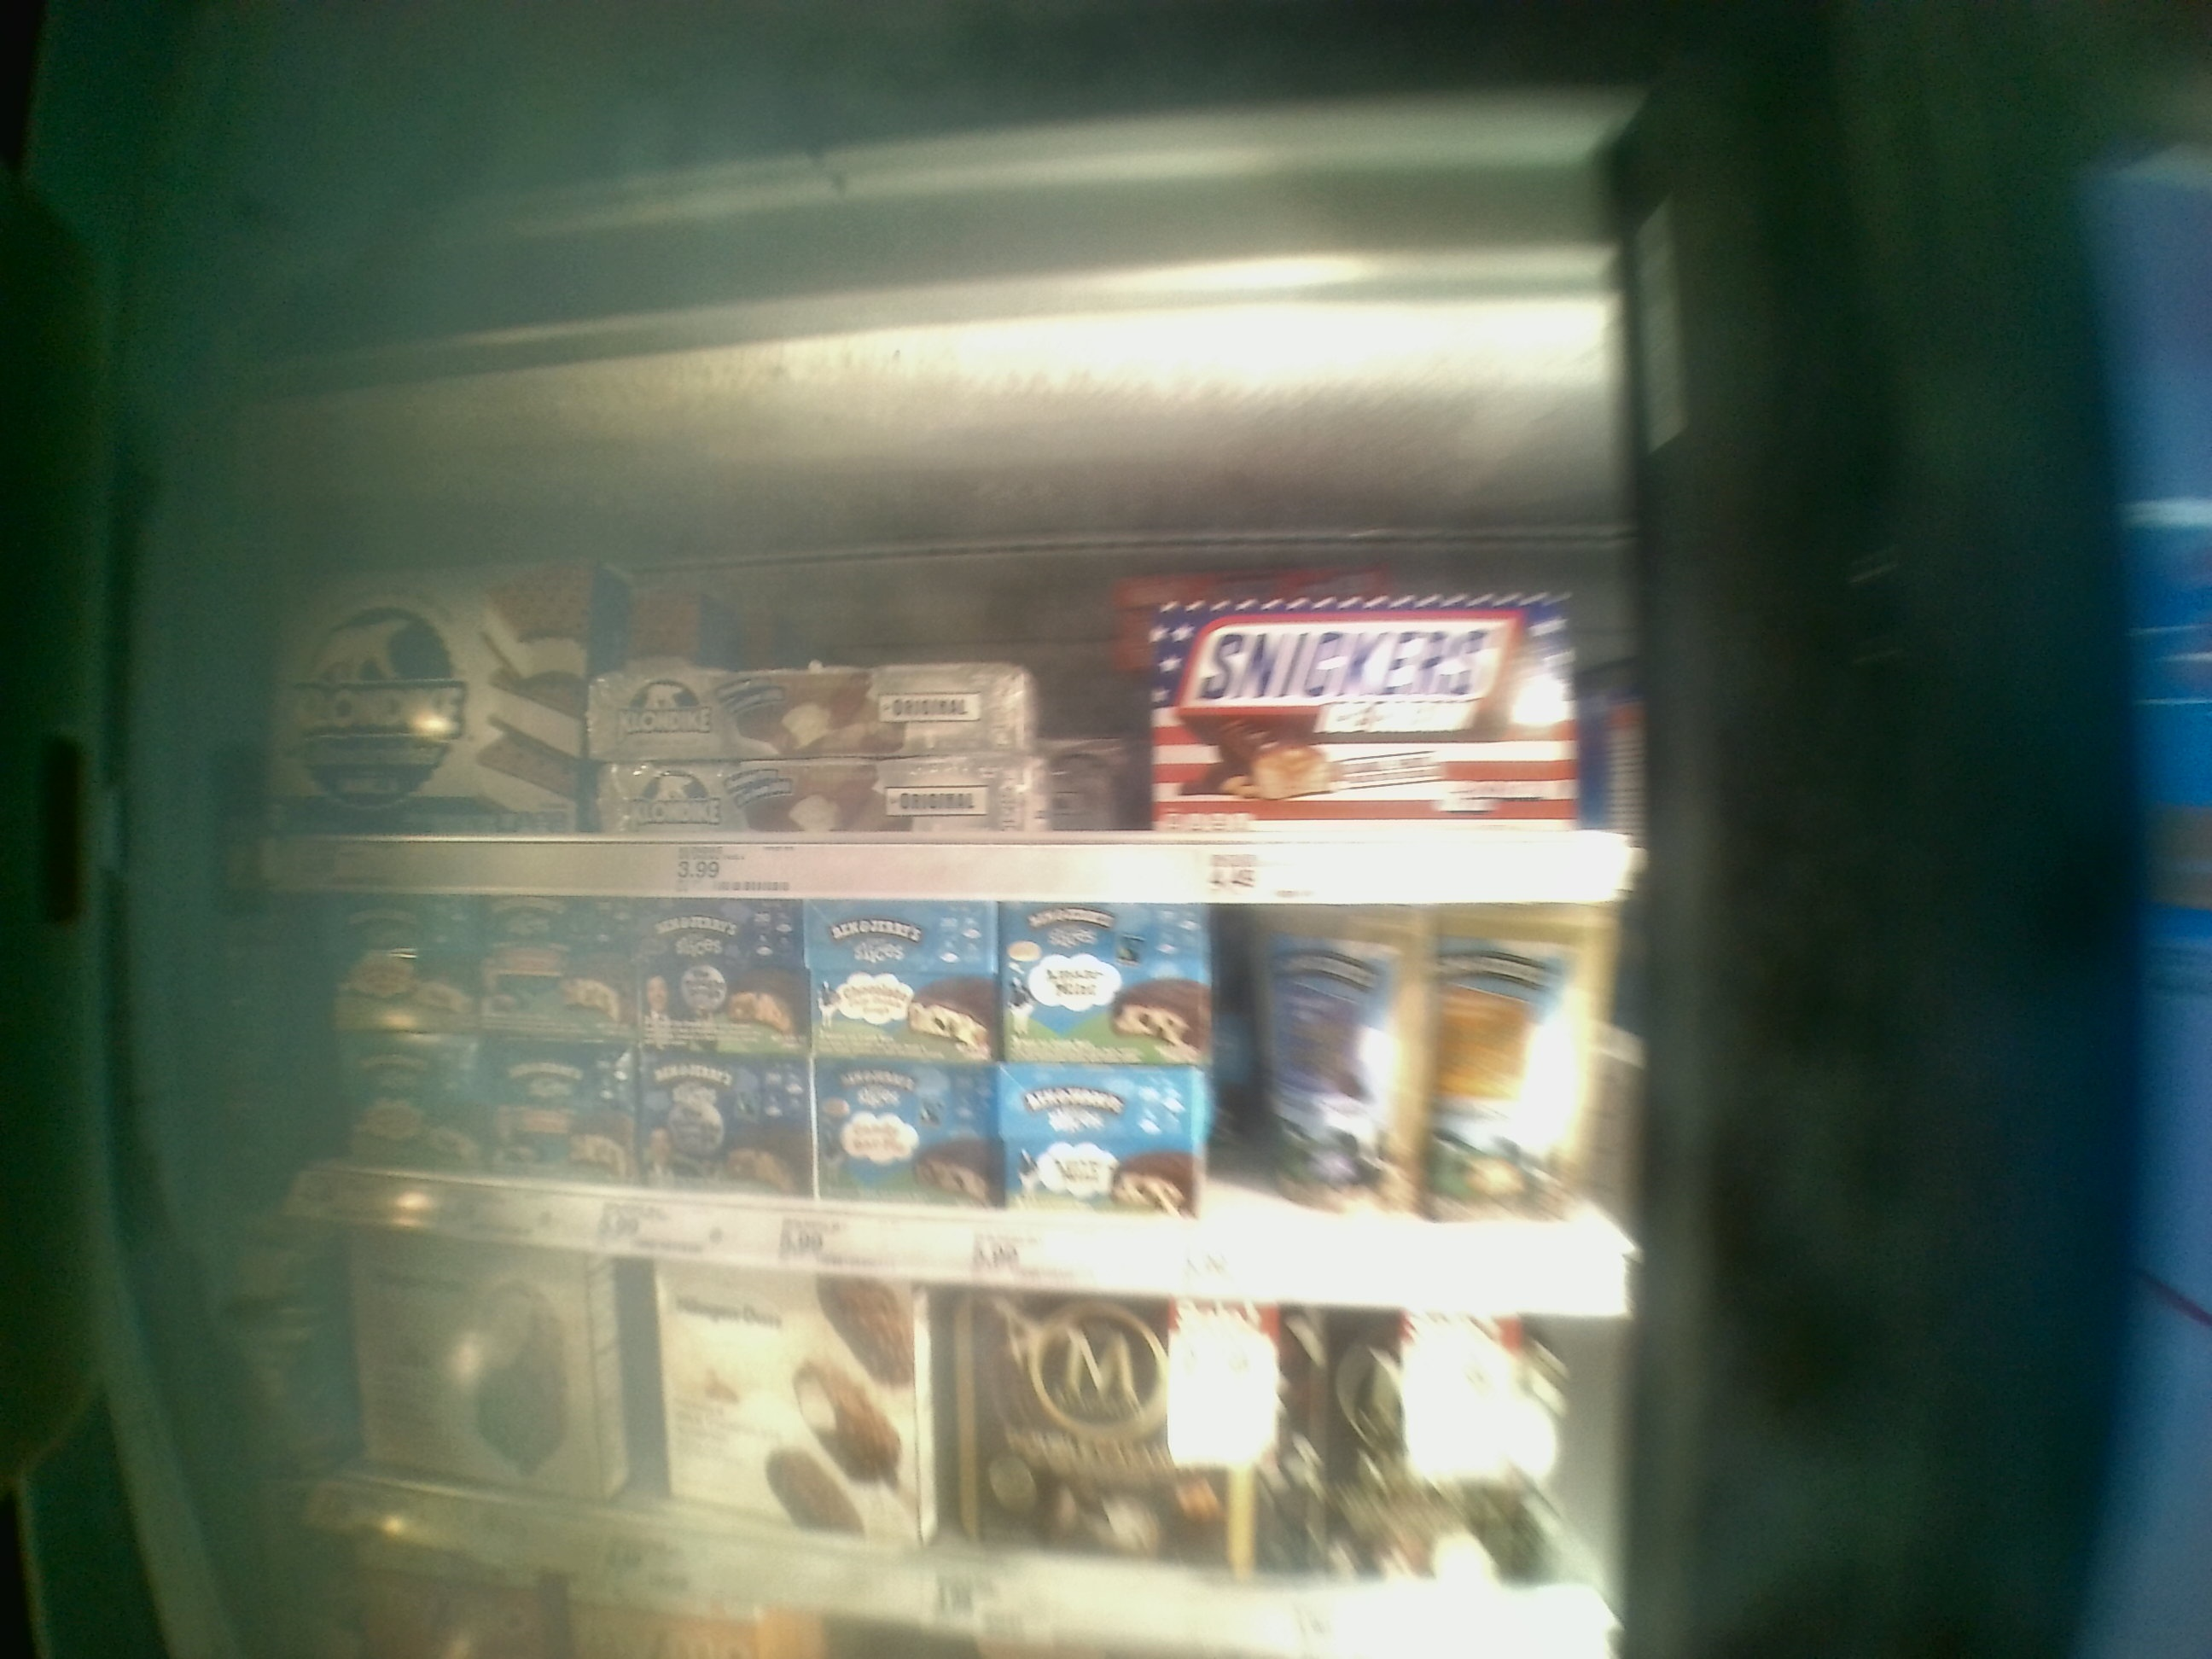shelf: (211, 462, 1634, 908), (216, 897, 1630, 1316)
